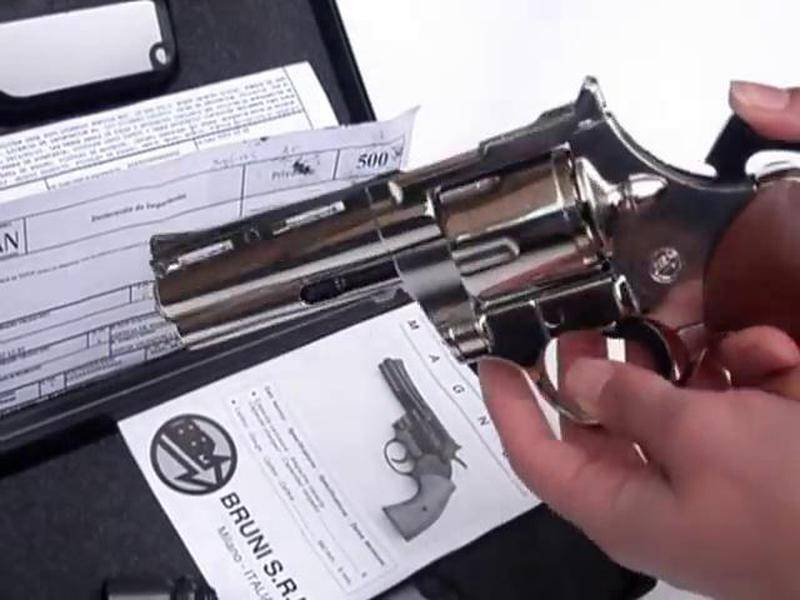Revolver: (161, 78, 800, 376)
